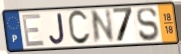7: (111, 7, 135, 45)
C: (67, 9, 92, 46)
E: (21, 13, 47, 48)
J: (48, 12, 66, 46)
N: (90, 8, 116, 46)
S: (135, 7, 160, 43)
